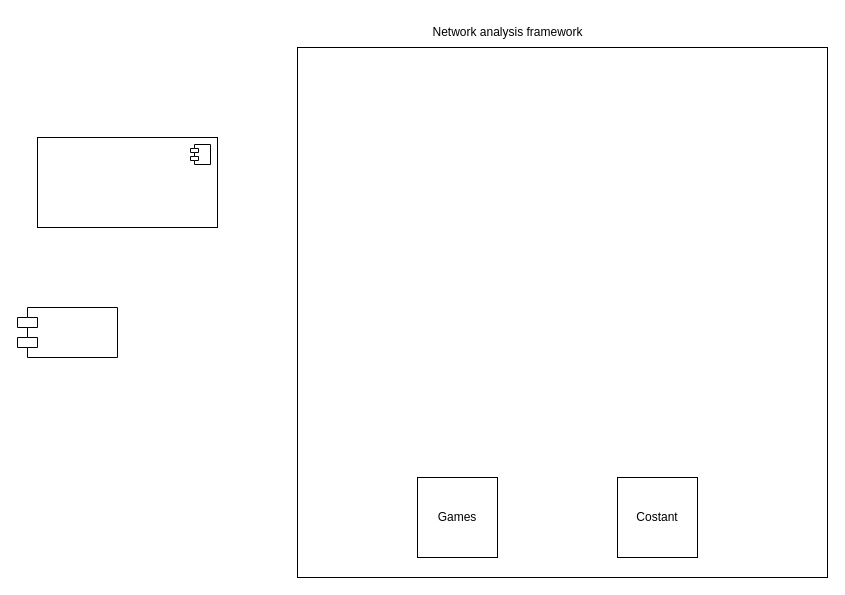
Some shapes in this 845 by 595 pixel diagram are drawn without their labels. The shapes that lost their labels are listed below. From the top down, each one's centre as x and y in pixels, then its label:
At pixel 127 182: "«Annotation» Component".
At pixel 67 332: "Module".
